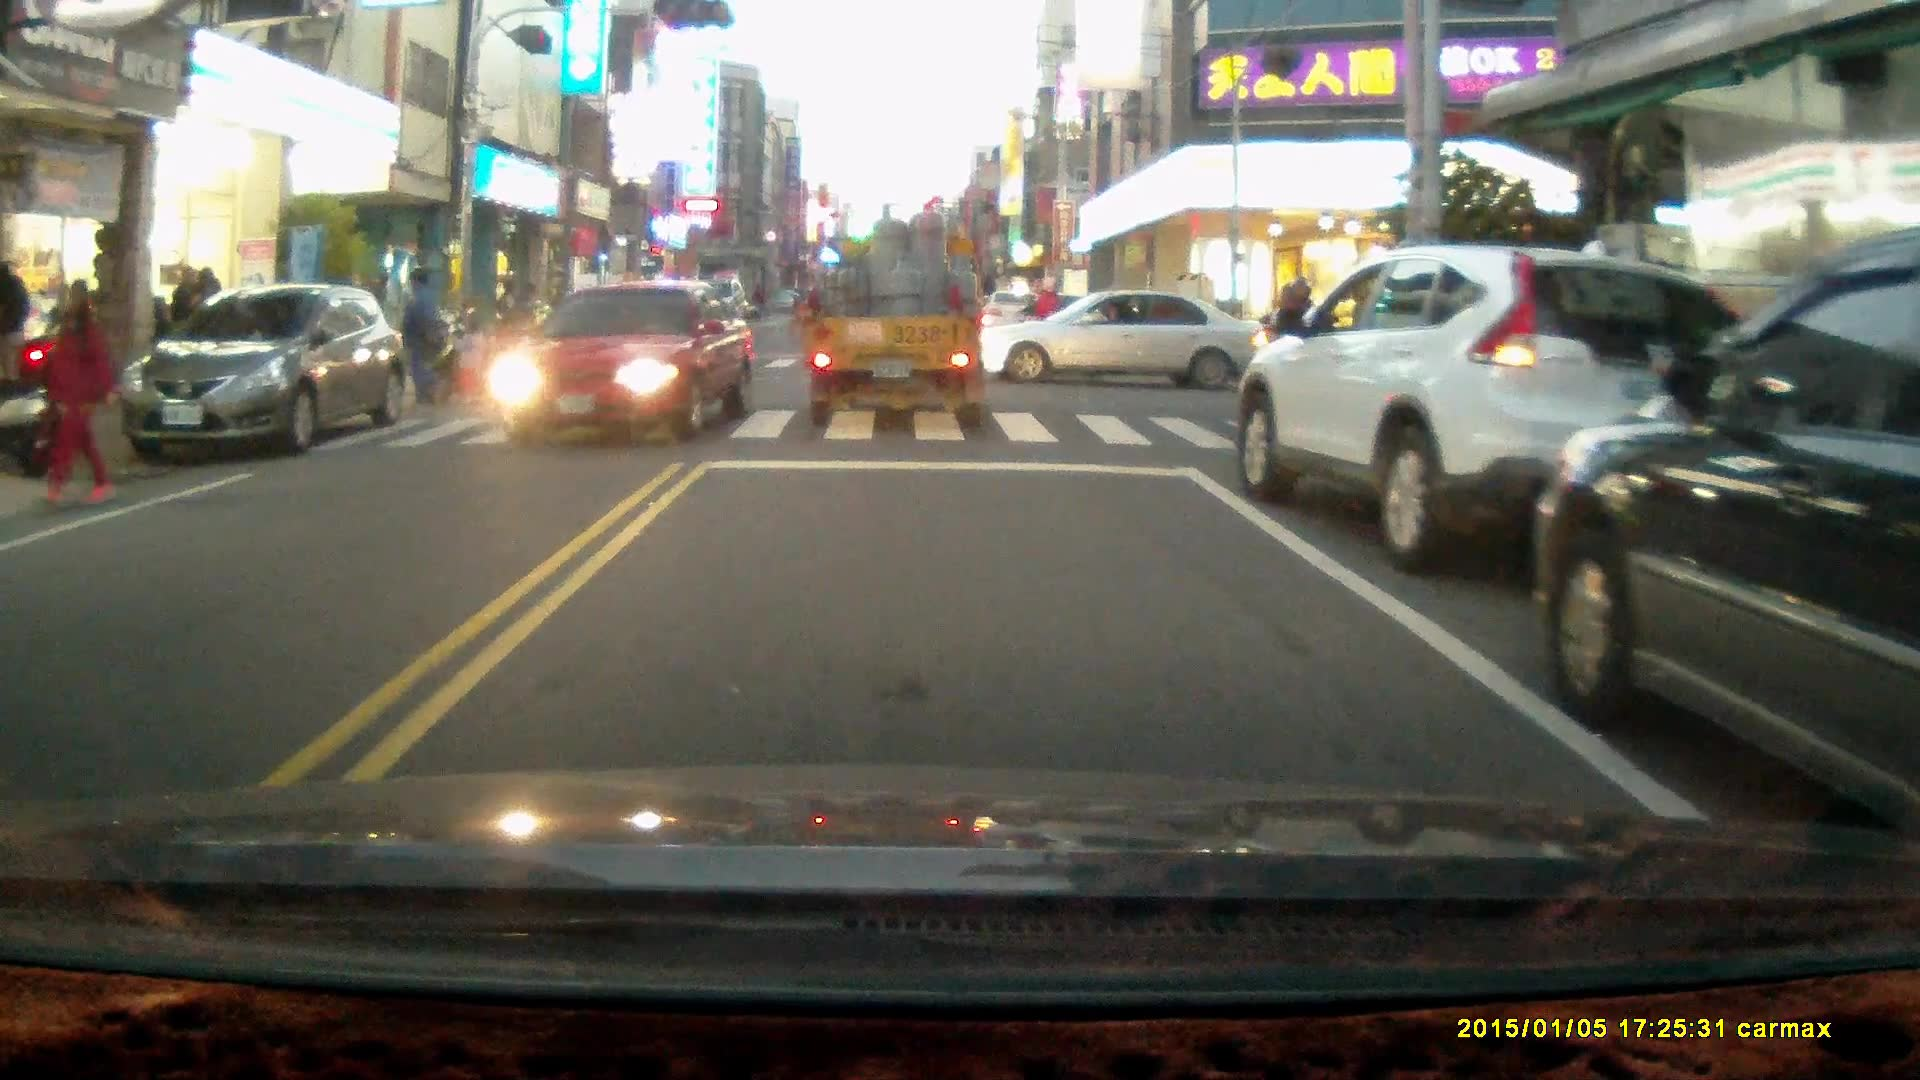pedestrian: (37, 277, 119, 513), (395, 265, 441, 404), (1, 261, 30, 395), (448, 319, 487, 403)
rider: (1006, 271, 1092, 361)
vehicle: (1537, 240, 1920, 842), (1234, 247, 1788, 577), (124, 286, 405, 466), (805, 195, 985, 444), (486, 281, 755, 447), (970, 291, 1271, 397)
